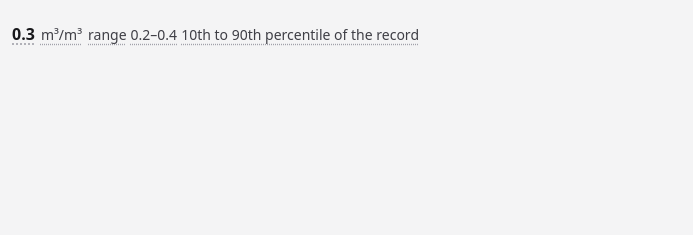
SourcedNumber › names the model kind as "model estimate" on the number and in its source panel
What coordinates should you click on to do the following:
click the button with aria-label "Source: model estimate"
I would click on:
 (216, 34)
Its box is x1=12 y1=12 x2=419 y2=56.
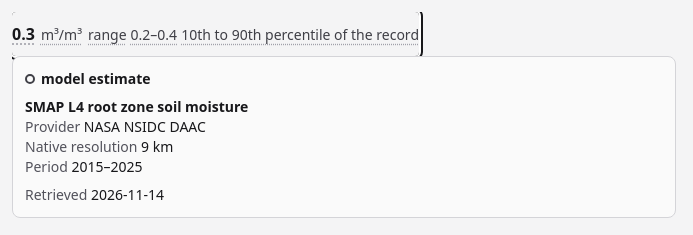
Expected: the text "model estimate" is shown, x1=25 y1=69 x2=151 y2=88
